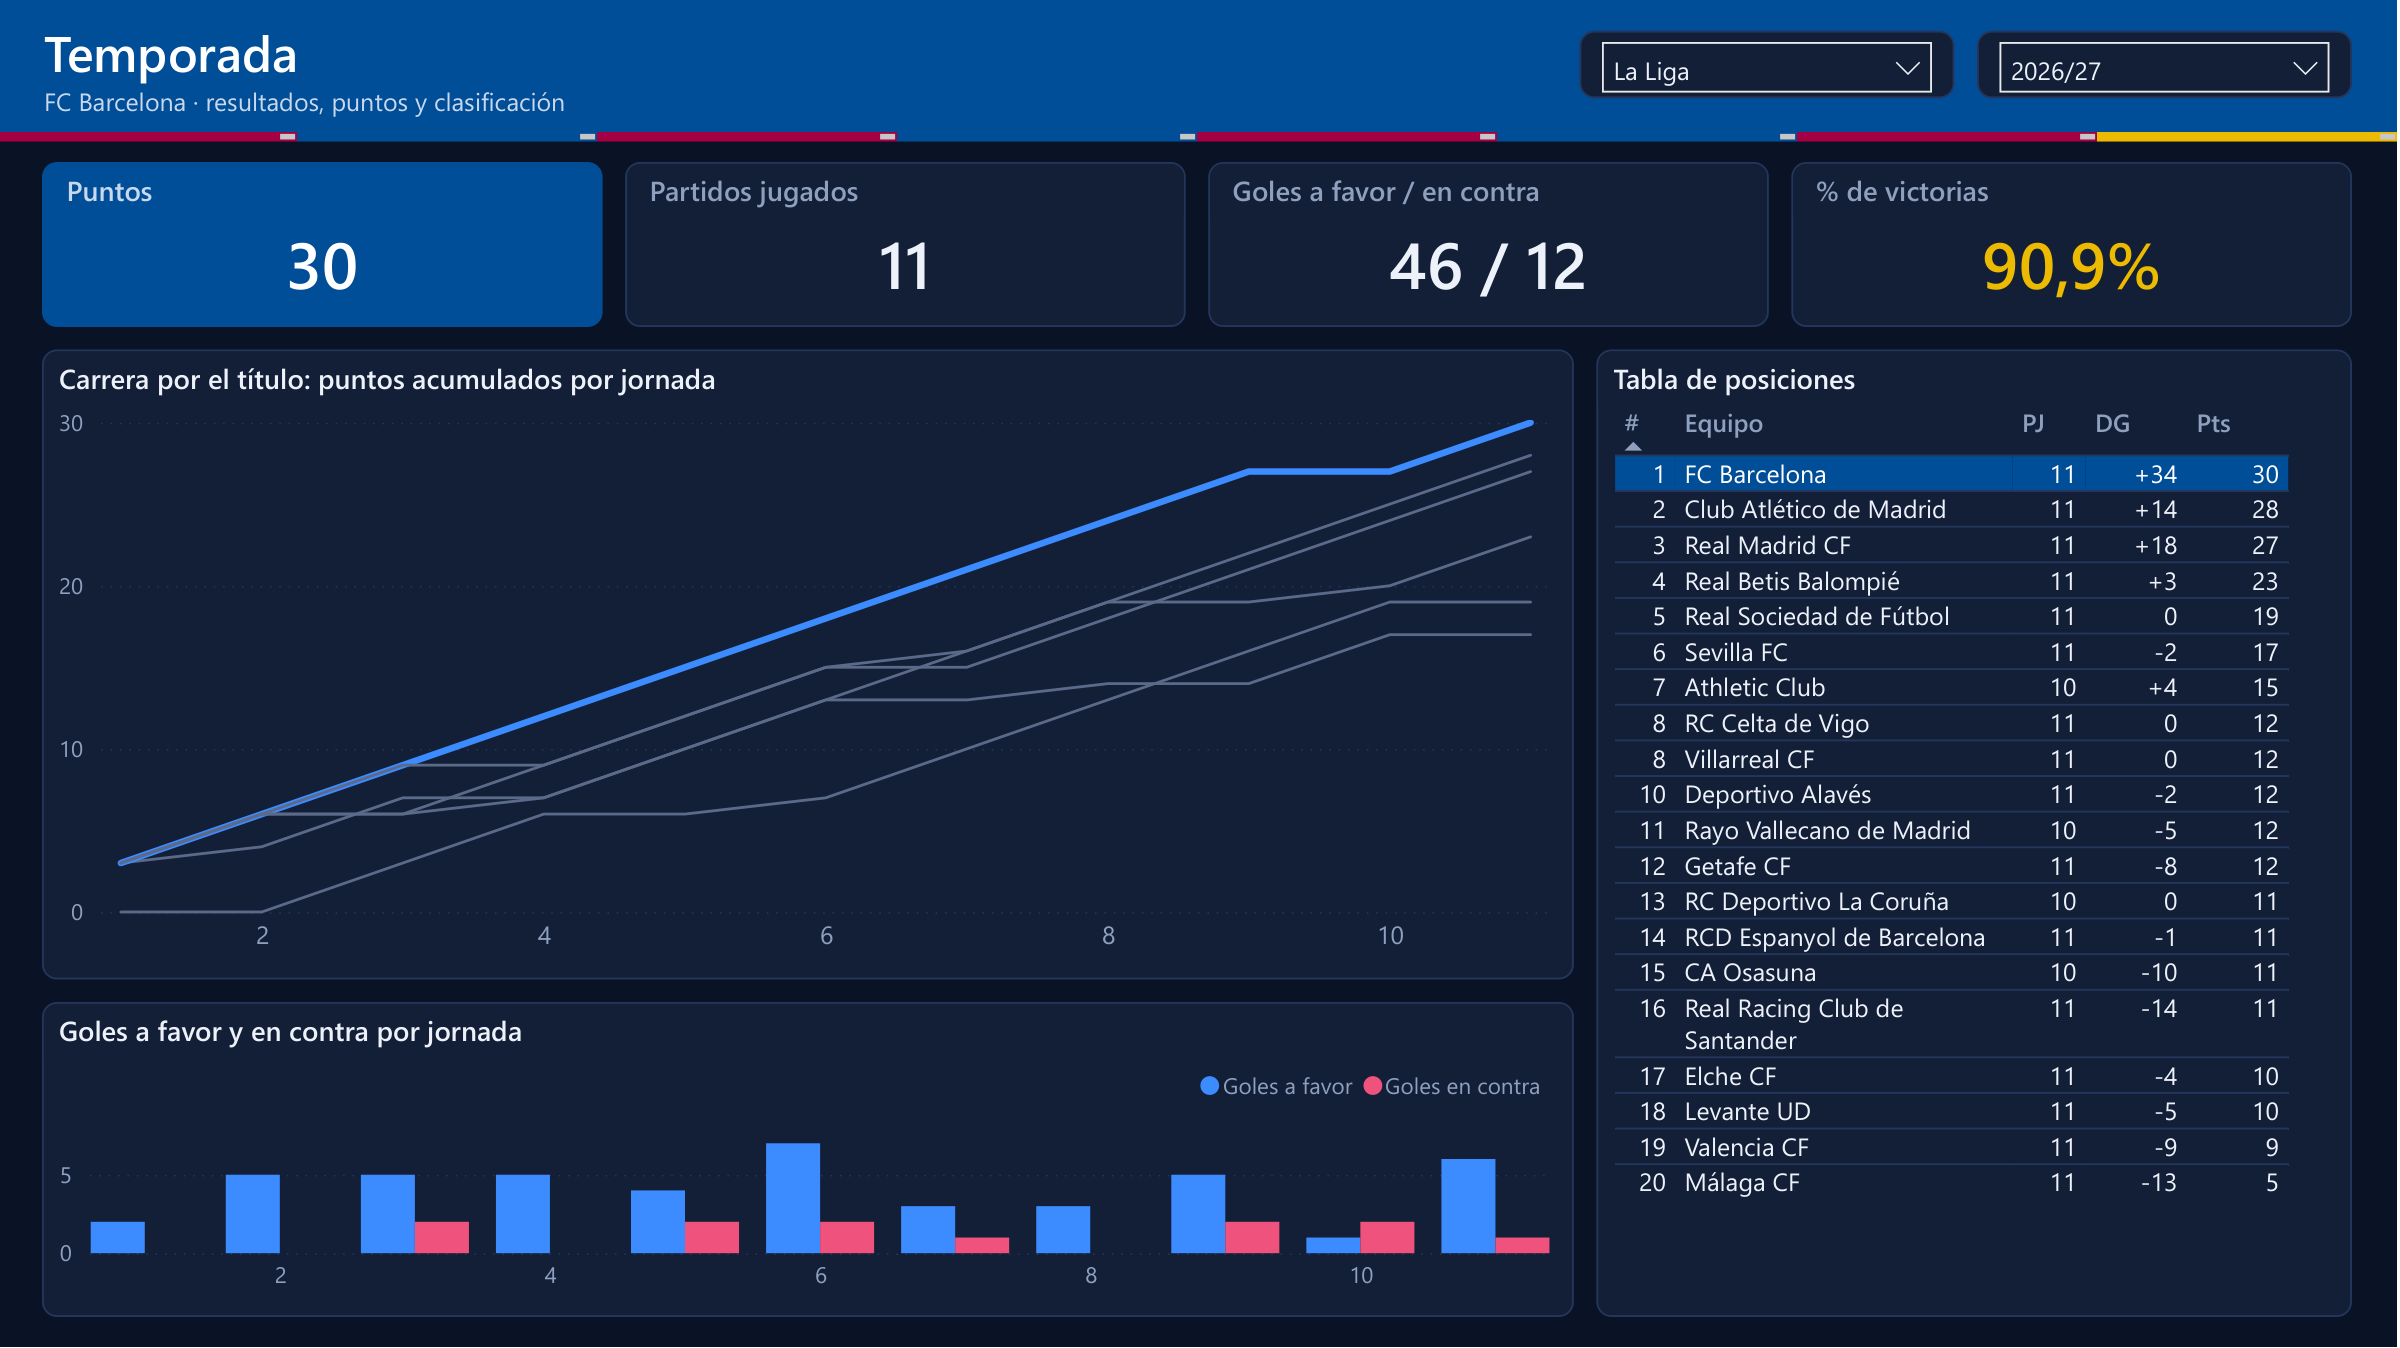

Layout of this report page (visuals, bound fields, positions):
{"tool":"powerbi","page":{"name":"Temporada","canvas":[1280,720],"ordinal":0},"visuals":[{"type":"textbox","box":[0,0,1280,72],"z":0},{"type":"textbox","box":[0,72,160,5],"z":10},{"type":"textbox","box":[160,72,160,5],"z":20},{"type":"textbox","box":[320,72,160,5],"z":30},{"type":"textbox","box":[480,72,160,5],"z":40},{"type":"textbox","box":[640,72,160,5],"z":50},{"type":"textbox","box":[800,72,160,5],"z":60},{"type":"textbox","box":[960,72,160,5],"z":70},{"type":"textbox","box":[1120,72,160,5],"z":80},{"type":"slicer","fields":{"Values":["warehouse vw_dim_competition.Competición"]},"box":[844,18,200,36],"z":90},{"type":"slicer","fields":{"Values":["warehouse vw_dim_competition.Temporada"]},"box":[1056,18,200,36],"z":100},{"type":"card","title":"Puntos","fields":{"Values":["Medidas.Puntos"]},"box":[24,88,299,88],"z":110},{"type":"card","title":"Partidos jugados","fields":{"Values":["Medidas.Partidos jugados"]},"box":[335,88,299,88],"z":120},{"type":"card","title":"Goles a favor / en contra","fields":{"Values":["Medidas.Goles texto"]},"box":[646,88,299,88],"z":130},{"type":"card","title":"% de victorias","fields":{"Values":["Medidas.% Victorias"]},"box":[957,88,299,88],"z":140},{"type":"lineChart","title":"Carrera por el título: puntos acumulados por jornada","fields":{"Category":["warehouse vw_title_race.Jornada"],"Series":["warehouse vw_title_race.Equipo"],"Y":["Medidas.Puntos acumulados"]},"box":[24,188,817,336],"z":150},{"type":"tableEx","title":"Tabla de posiciones","fields":{"Values":["Medidas.Posición","warehouse vw_team_season_summary.Equipo","Medidas.PJ tabla","Medidas.DG tabla","Medidas.Puntos tabla"]},"box":[853,188,403,516],"z":160},{"type":"clusteredColumnChart","title":"Goles a favor y en contra por jornada","fields":{"Category":["warehouse vw_barca_matches.Jornada"],"Y":["Medidas.Goles a favor","Medidas.Goles en contra"]},"box":[24,536,817,168],"z":170}]}

Visuals, with their boxes in screenshot pixels (x1, y1, x2, y2), scaled from the page's 1280x720 canvas onto the 2400x1348 screenshot:
textbox: 0 0 2399 135
textbox: 0 135 300 144
textbox: 300 135 600 144
textbox: 600 135 900 144
textbox: 900 135 1200 144
textbox: 1200 135 1500 144
textbox: 1500 135 1800 144
textbox: 1800 135 2100 144
textbox: 2100 135 2399 144
slicer - warehouse vw_dim_competition.Competición: 1582 34 1958 101
slicer - warehouse vw_dim_competition.Temporada: 1980 34 2355 101
"Puntos" card: 45 165 606 330
"Partidos jugados" card: 628 165 1189 330
"Goles a favor / en contra" card: 1211 165 1772 330
"% de victorias" card: 1794 165 2355 330
"Carrera por el título: puntos acumulados por jornada" lineChart: 45 352 1577 981
"Tabla de posiciones" tableEx: 1599 352 2355 1318
"Goles a favor y en contra por jornada" clusteredColumnChart: 45 1004 1577 1318
